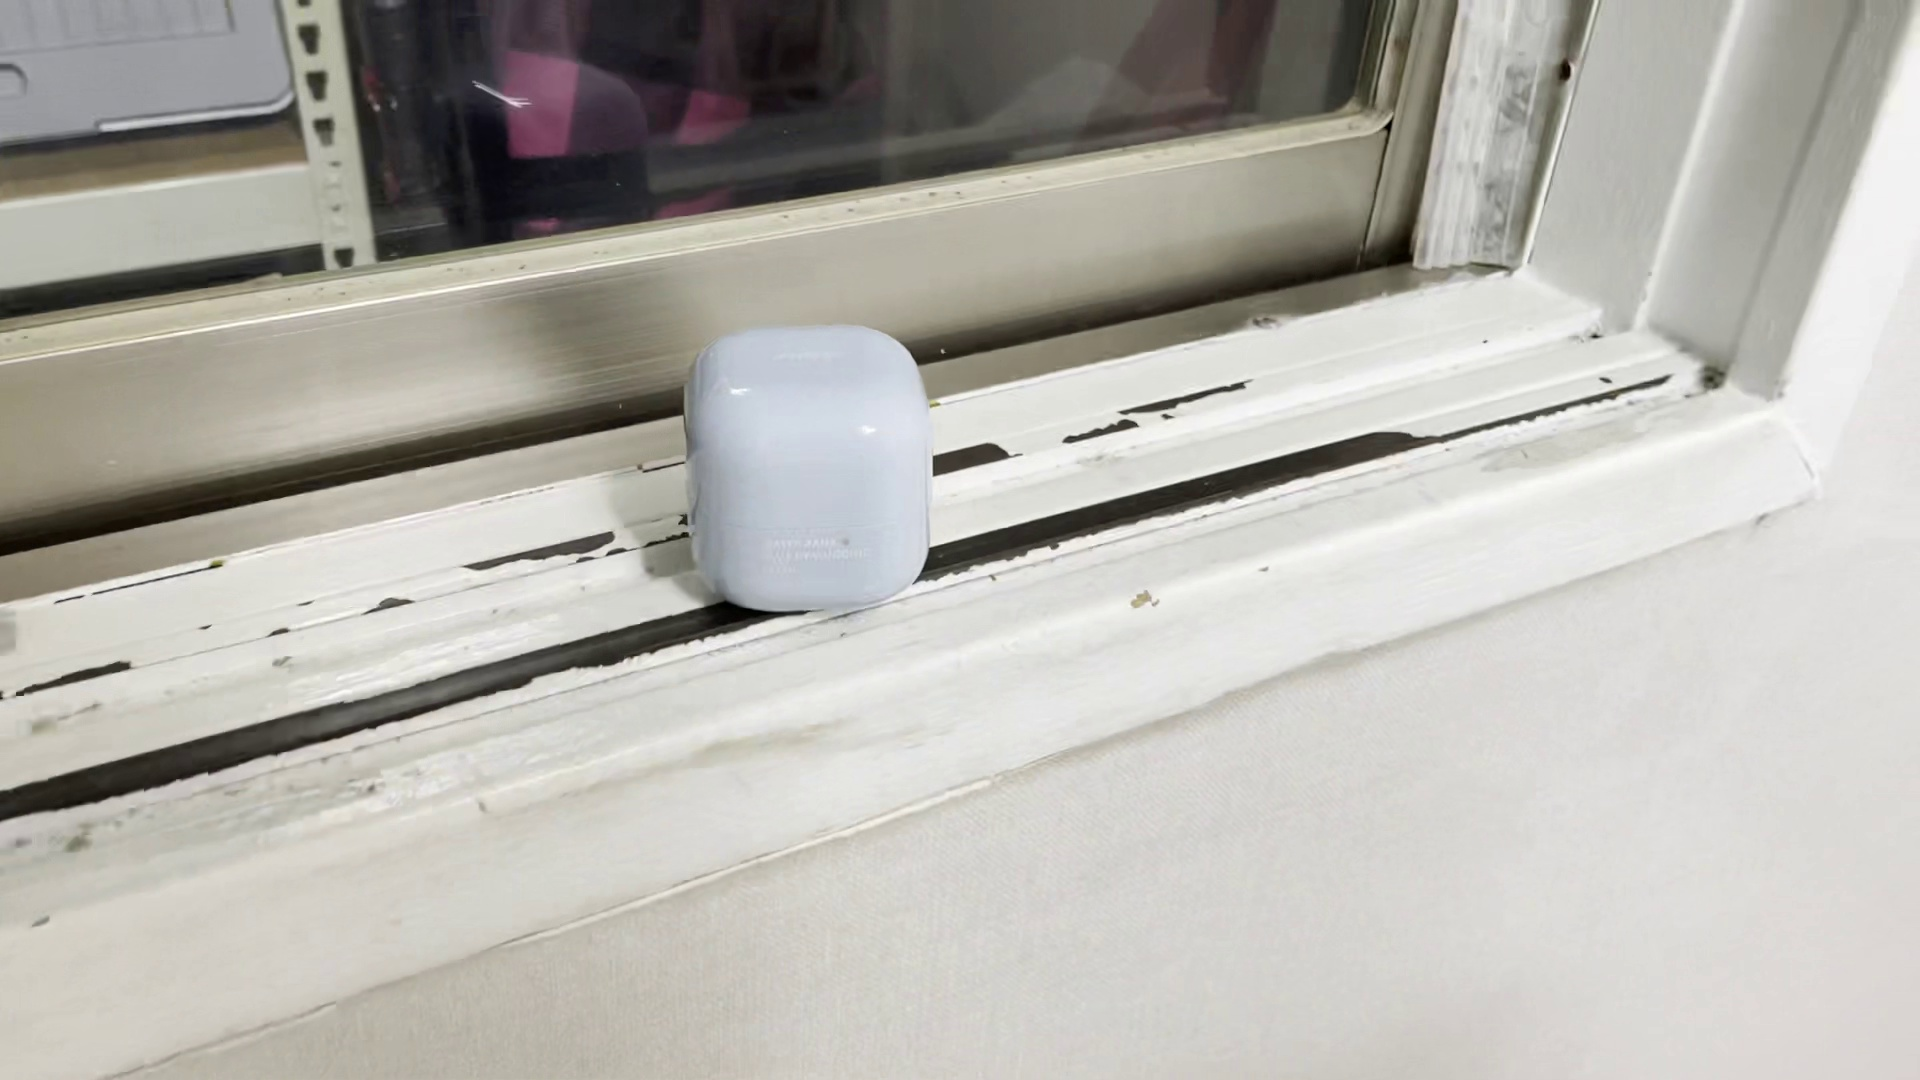cream: (688, 328, 932, 615)
